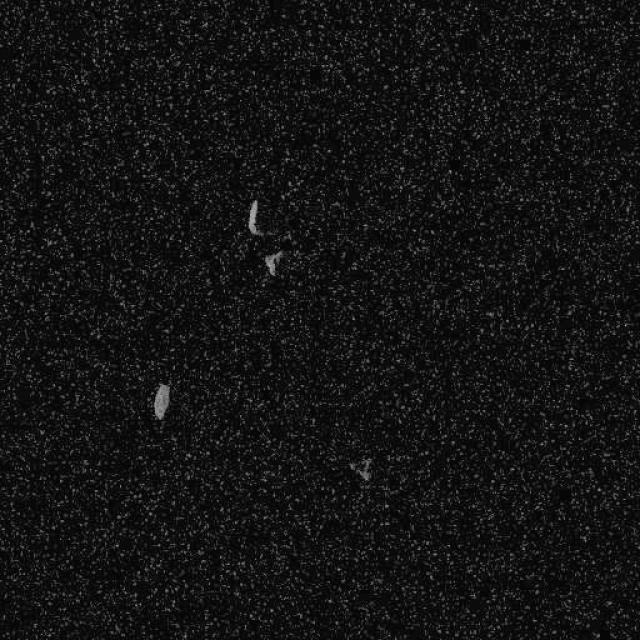D2: (151, 381, 171, 420), (348, 456, 373, 482), (246, 198, 262, 236), (262, 249, 282, 276)
